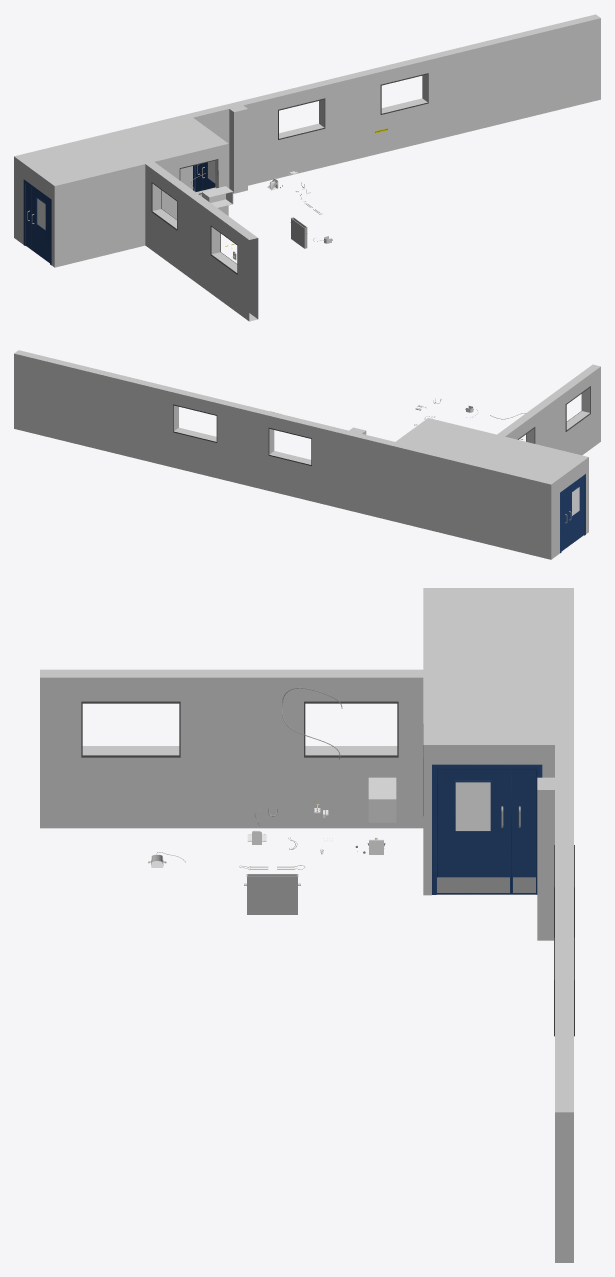
File: NEW_CHANGES.fbx
The picture shows the model from 3 angles, top to bottom: view 1: azimuth 30°, elevation 25°; view 2: azimuth 150°, elevation 25°; view 3: azimuth 270°, elevation 25°; orthographic projection. The views are drawn at different scales.
Visible parts, largest first — view 1: _____polySurface2385, _____polySurface2401, _____blue_door1__left_door__doorglass1, pCube4, _____blue_door1__right_door__door2, _____doorframe; view 2: _____polySurface2385, _____polySurface2401, _____blue_door1__left_door__doorglass1, _____blue_door1__right_door__door2, _____doorframe; view 3: _____polySurface2401, _____polySurface2385, _____blue_door1__left_door__doorglass1, _____blue_door1__right_door__door2, ___________pCylinder90, _____doorframe, pCube4.
Part boxes in pixels (x1,y1,x2,y2): _____polySurface2385: (14, 14, 600, 267); _____polySurface2401: (145, 161, 258, 321); _____blue_door1__left_door__doorglass1: (31, 188, 49, 262); pCube4: (202, 186, 233, 207); _____blue_door1__right_door__door2: (25, 184, 31, 249); _____doorframe: (23, 179, 51, 265); _____polySurface2385: (14, 350, 588, 559); _____polySurface2401: (497, 364, 600, 455); _____blue_door1__left_door__doorglass1: (567, 478, 583, 547); _____blue_door1__right_door__door2: (561, 490, 567, 550); _____doorframe: (560, 474, 585, 553); _____polySurface2401: (40, 669, 425, 828); _____polySurface2385: (423, 588, 574, 1262); _____blue_door1__left_door__doorglass1: (437, 769, 511, 894); _____blue_door1__right_door__door2: (511, 769, 536, 894); ___________pCylinder90: (244, 874, 300, 914); _____doorframe: (432, 764, 542, 894); pCube4: (368, 777, 396, 822).
Bounding box in the file's own units: 1840 × 246 × 791.
